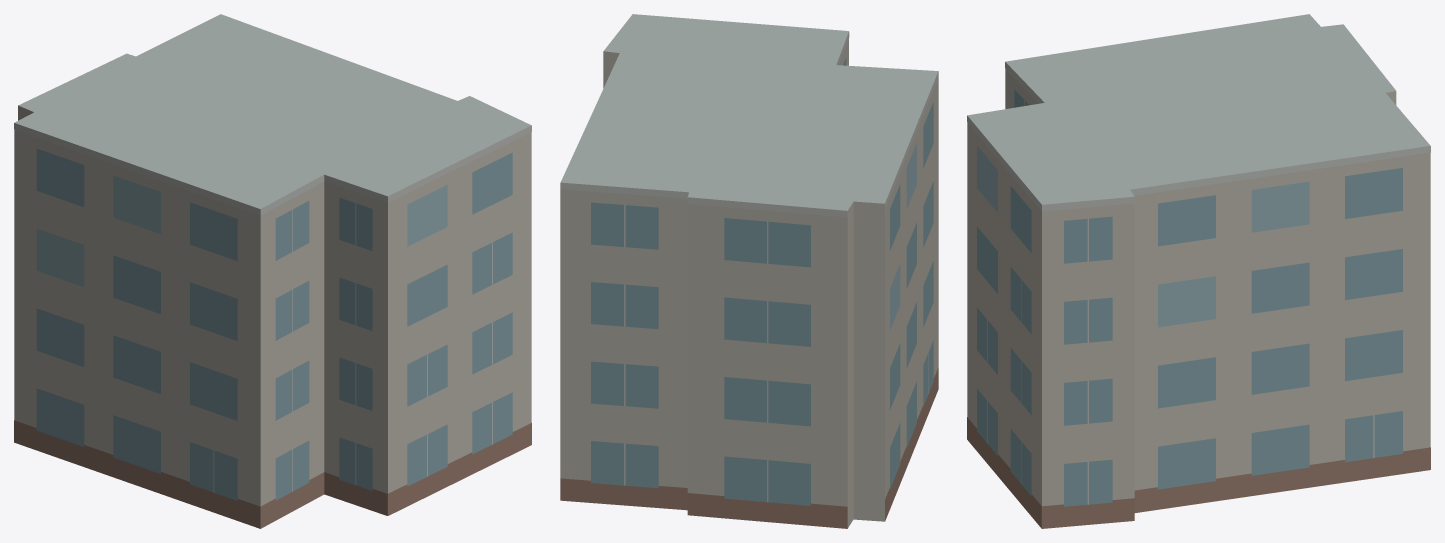
Rendered from survey-upis-33046923.glb.
The picture shows the model from 3 angles, left to right: view 1: azimuth 30°, elevation 25°; view 2: azimuth 150°, elevation 25°; view 3: azimuth 270°, elevation 25°; orthographic projection.
Visible parts, largest first — view 1: survey-upis-33046923.tmp; view 2: survey-upis-33046923.tmp; view 3: survey-upis-33046923.tmp.
Part boxes in pixels (x1,y1,x2,y2): survey-upis-33046923.tmp: (14,14,531,528); survey-upis-33046923.tmp: (560,14,938,528); survey-upis-33046923.tmp: (967,14,1430,528).
Bounding box in the file's own units: 14.9 × 11.8 × 15.31.
